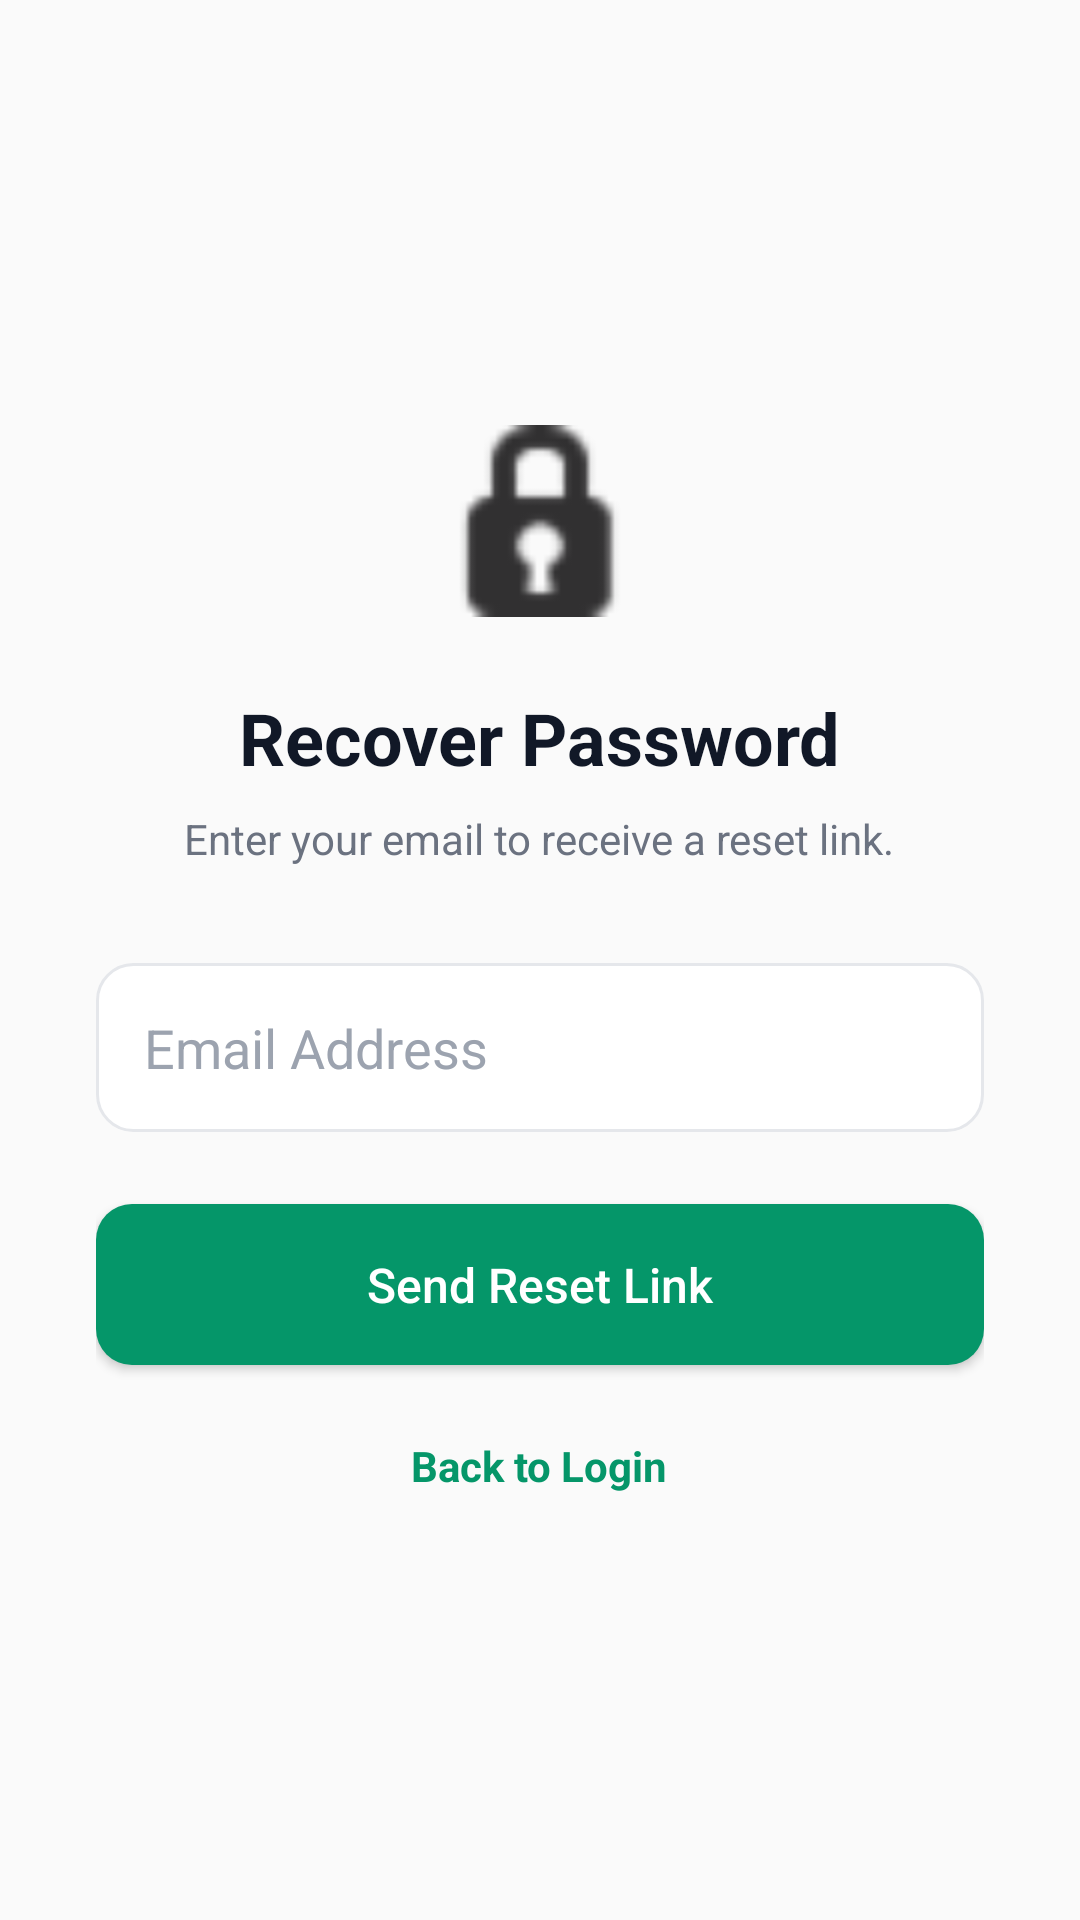

Point at icon controls on the screen. Image size 1080px x 1920px, points as [x,y].
secure: [539,521]
